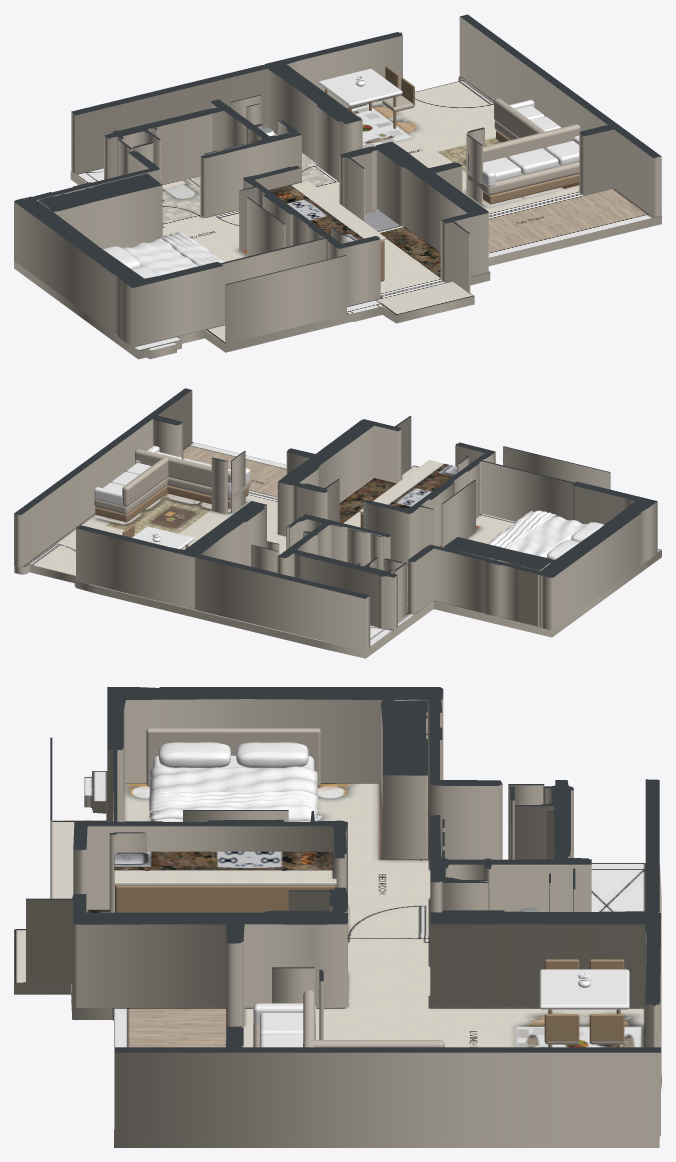
The picture shows the model from 3 angles, top to bottom: view 1: azimuth 30°, elevation 25°; view 2: azimuth 150°, elevation 25°; view 3: azimuth 270°, elevation 25°; orthographic projection. The views are drawn at different scales.
Parts seen in each view (by area): view 1: Partition walls, Apartment floor, Stone worktop, Marble dining top, Draped bed linen, Sofa back, Upholstered sofa frame, Sofa back.001, Sofa plinth, Draped bed linen.001, Seat cushion.001, Seat cushion.002 (+1 smaller); view 2: Partition walls, Apartment floor, Stone worktop, Draped bed linen, Sofa back, Sofa back.001, Draped bed linen.001, Marble dining top, Upholstered sofa frame.001, Sofa plinth.001, Upholstered sofa frame, Sofa plinth; view 3: Partition walls, Apartment floor, Stone worktop, Draped bed linen, Kitchen cabinets, Marble dining top, Upholstered headboard, Draped bed linen.001, Tailored pillow.001, Tailored pillow, Sofa back.001, Chair back.002 (+3 smaller).
Boxes of the visible parts, left/top/right/bottom form: Partition walls: left=14, top=14, right=661, bottom=347; Apartment floor: left=14, top=76, right=661, bottom=359; Stone worktop: left=268, top=180, right=385, bottom=242; Marble dining top: left=318, top=68, right=402, bottom=106; Draped bed linen: left=122, top=233, right=225, bottom=275; Sofa back: left=468, top=124, right=580, bottom=170; Upholstered sofa frame: left=468, top=161, right=579, bottom=195; Sofa back.001: left=494, top=98, right=548, bottom=149; Sofa plinth: left=483, top=174, right=579, bottom=204; Draped bed linen.001: left=157, top=232, right=221, bottom=266; Seat cushion.001: left=508, top=148, right=558, bottom=174; Seat cushion.002: left=545, top=140, right=579, bottom=165; Partition walls: left=14, top=388, right=657, bottom=650; Apartment floor: left=14, top=442, right=661, bottom=658; Stone worktop: left=359, top=460, right=457, bottom=513; Draped bed linen: left=487, top=510, right=586, bottom=557; Sofa back: left=135, top=449, right=234, bottom=489; Sofa back.001: left=122, top=456, right=168, bottom=506; Draped bed linen.001: left=489, top=510, right=556, bottom=548; Marble dining top: left=132, top=526, right=193, bottom=549; Upholstered sofa frame.001: left=94, top=478, right=167, bottom=514; Sofa plinth.001: left=95, top=485, right=167, bottom=522; Upholstered sofa frame: left=167, top=477, right=250, bottom=500; Sofa plinth: left=167, top=485, right=248, bottom=508; Partition walls: left=26, top=687, right=660, bottom=1136; Apartment floor: left=14, top=771, right=661, bottom=1147; Stone worktop: left=114, top=851, right=336, bottom=885; Draped bed linen: left=149, top=766, right=317, bottom=821; Kitchen cabinets: left=115, top=885, right=335, bottom=912; Marble dining top: left=539, top=969, right=629, bottom=1009; Upholstered headboard: left=146, top=728, right=320, bottom=786; Draped bed linen.001: left=149, top=790, right=317, bottom=814; Tailored pillow.001: left=236, top=742, right=308, bottom=768; Tailored pillow: left=158, top=742, right=231, bottom=768; Sofa back.001: left=303, top=1040, right=444, bottom=1047; Chair back.002: left=544, top=1014, right=579, bottom=1041.
Size of the model in its own units: 10.72 by 1.3 by 8.02.
Materials: 10 (1 with a texture image).
